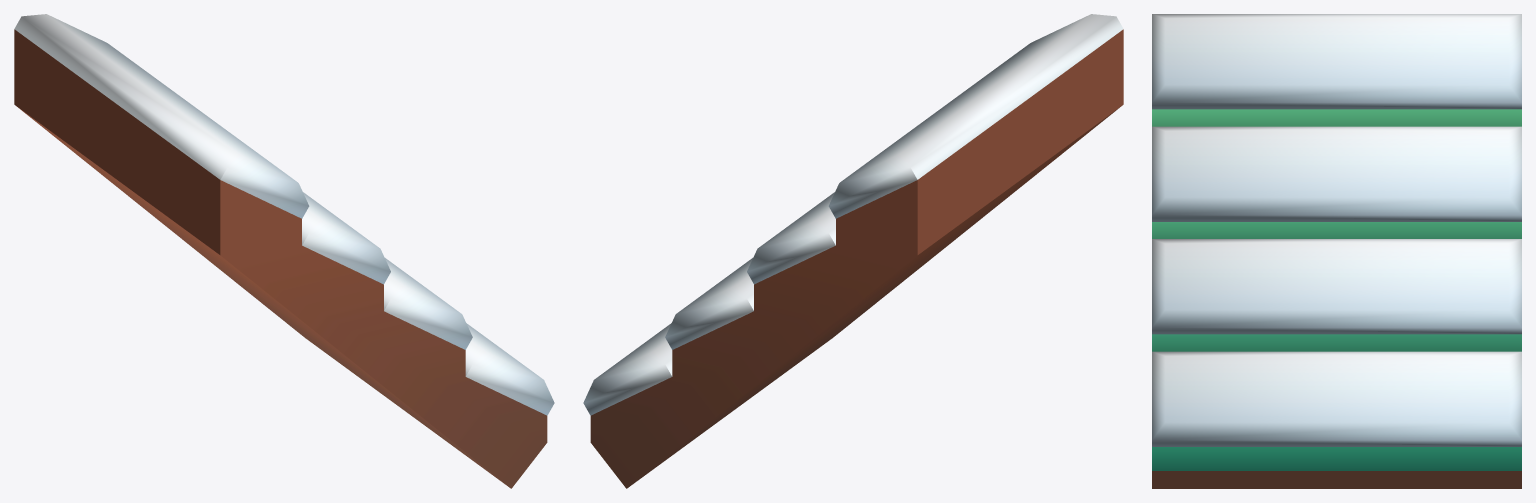
Rendered from kenney-holiday-cabin-roof-snow.glb.
3 views of the same model, side by side, from view 1: azimuth 30°, elevation 25°; view 2: azimuth 150°, elevation 25°; view 3: azimuth 270°, elevation 25° (orthographic). The views are drawn at different scales.
Visible parts, largest first — view 1: cabin-roof-snow; view 2: cabin-roof-snow; view 3: cabin-roof-snow.
Boxes of the visible parts, left/top/right/bottom form: cabin-roof-snow: left=14, top=14, right=554, bottom=488; cabin-roof-snow: left=583, top=14, right=1123, bottom=488; cabin-roof-snow: left=1152, top=14, right=1521, bottom=488.
Size of the model in its own units: 1.31 by 1.48 by 1.4.
1 material, 1 textured.
